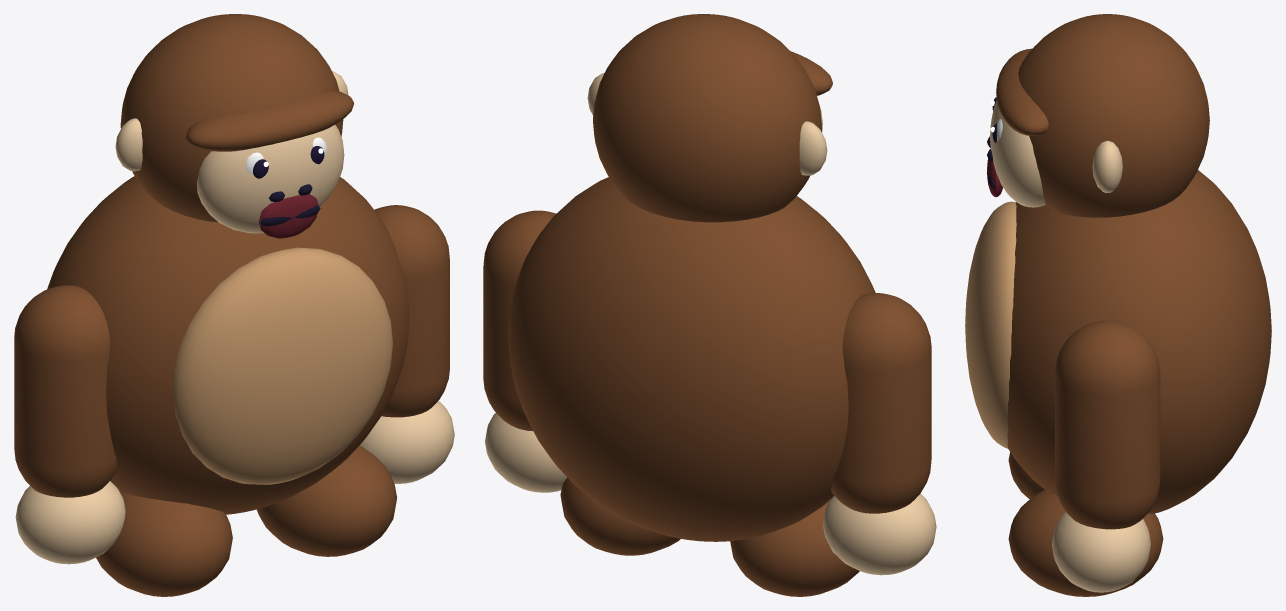
File: gorila.glb
3 views of the same model, side by side, from view 1: azimuth 30°, elevation 25°; view 2: azimuth 150°, elevation 25°; view 3: azimuth 270°, elevation 25° (orthographic). The views are drawn at different scales.
Visible parts, largest first — view 1: gorila_trup, gorila_hrud, gorila_lebka, gorila_paze_-1, gorila_noha_-1, gorila_paze_1, gorila_noha_1, gorila_tvar, gorila_dlan_-1, gorila_obocni, gorila_dlan_1, gorila_rev (+1 smaller); view 2: gorila_trup, gorila_lebka, gorila_paze_-1, gorila_paze_1, gorila_noha_-1, gorila_dlan_-1, gorila_noha_1, gorila_dlan_1, gorila_ucho_-1, gorila_obocni; view 3: gorila_trup, gorila_lebka, gorila_paze_1, gorila_hrud, gorila_dlan_1, gorila_noha_1, gorila_tvar, gorila_obocni, gorila_ucho_1, gorila_noha_-1.
Part boxes in pixels (x1,y1,x2,y2): gorila_trup: (47, 176, 409, 514); gorila_hrud: (172, 247, 392, 484); gorila_lebka: (120, 14, 343, 222); gorila_paze_-1: (14, 285, 116, 497); gorila_noha_-1: (96, 491, 232, 596); gorila_paze_1: (374, 205, 449, 417); gorila_noha_1: (256, 445, 396, 556); gorila_tvar: (197, 125, 344, 233); gorila_dlan_-1: (15, 481, 125, 564); gorila_obocni: (186, 90, 353, 151); gorila_dlan_1: (359, 401, 454, 483); gorila_rev: (259, 194, 318, 238); gorila_trup: (508, 177, 875, 541); gorila_lebka: (593, 14, 821, 222); gorila_paze_-1: (831, 293, 931, 513); gorila_paze_1: (483, 210, 555, 430); gorila_noha_-1: (730, 500, 859, 596); gorila_dlan_-1: (823, 493, 936, 575); gorila_noha_1: (560, 477, 680, 555); gorila_dlan_1: (485, 413, 566, 492); gorila_ucho_-1: (799, 121, 827, 175); gorila_obocni: (791, 51, 832, 95); gorila_trup: (1007, 170, 1271, 513); gorila_lebka: (1018, 14, 1209, 217); gorila_paze_1: (1055, 320, 1160, 529); gorila_hrud: (965, 201, 1016, 448); gorila_dlan_1: (1052, 512, 1150, 592); gorila_noha_1: (1008, 490, 1163, 596); gorila_tvar: (990, 100, 1045, 207); gorila_obocni: (996, 48, 1048, 136); gorila_ucho_1: (1092, 140, 1122, 192); gorila_noha_-1: (1008, 452, 1044, 499).
Size of the model in its own units: 1.56 by 1.87 by 0.99.
